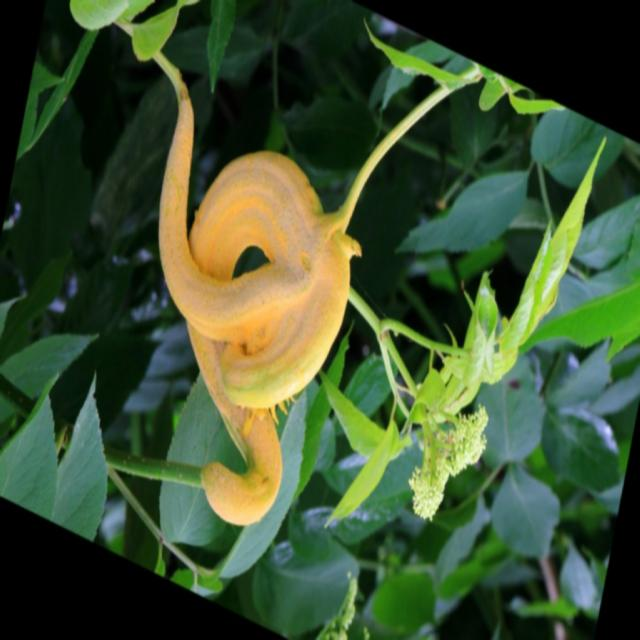Elderberry_rust: (156, 80, 362, 527)
